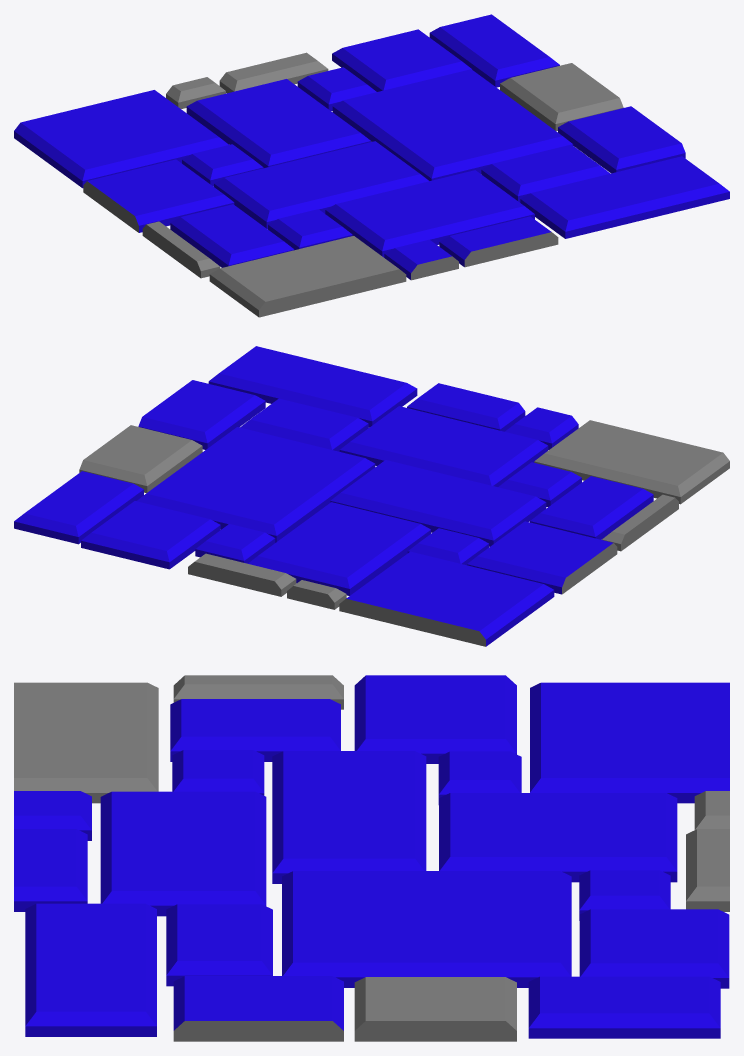
The model's file is Floor Tiles 2.fbx.
3 renders of one model, top to bottom at view 1: azimuth 30°, elevation 25°; view 2: azimuth 150°, elevation 25°; view 3: azimuth 270°, elevation 25°, orthographic. The views are drawn at different scales.
Parts seen in each view (by area): view 1: tile011, tile, tile005, tile008, tile012, tile016, tile004, tile001, tile009, tile018, tile019, tile020 (+10 smaller); view 2: tile011, tile, tile012, tile016, tile005, tile004, tile008, tile001, tile018, tile019, tile009, tile020 (+10 smaller); view 3: tile011, tile, tile005, tile016, tile012, tile008, tile004, tile001, tile019, tile009, tile020, tile018 (+10 smaller).
Part boxes in pixels (box(x1,y1,x2,y2)): tile011: box(332, 69, 573, 180); tile: box(14, 90, 228, 188); tile005: box(325, 170, 534, 257); tile008: box(520, 156, 729, 238); tile012: box(214, 141, 429, 229); tile016: box(186, 79, 370, 167); tile004: box(209, 236, 406, 317); tile001: box(83, 159, 234, 232); tile009: box(558, 106, 685, 173); tile018: box(332, 29, 471, 91); tile019: box(429, 14, 559, 87); tile020: box(500, 63, 623, 131); tile011: box(136, 427, 375, 542); tile: box(339, 551, 554, 646); tile012: box(330, 460, 546, 546); tile016: box(248, 502, 430, 595); tile005: box(339, 406, 548, 486); tile004: box(534, 420, 729, 504); tile008: box(208, 346, 417, 427); tile001: box(467, 521, 617, 594); tile018: box(81, 501, 220, 569); tile019: box(14, 471, 143, 544); tile009: box(138, 380, 265, 449); tile020: box(79, 425, 202, 492); tile011: box(282, 871, 571, 987); tile: box(530, 682, 729, 803); tile005: box(100, 791, 266, 916); tile016: box(439, 793, 677, 882); tile012: box(272, 751, 426, 883); tile008: box(25, 903, 156, 1036); tile004: box(14, 682, 158, 803); tile001: box(354, 675, 516, 763); tile019: box(528, 976, 720, 1038); tile009: box(173, 976, 343, 1041); tile020: box(354, 977, 516, 1041); tile018: box(579, 909, 729, 988).
Bounding box in the file's own units: 241 × 211 × 6.71.
